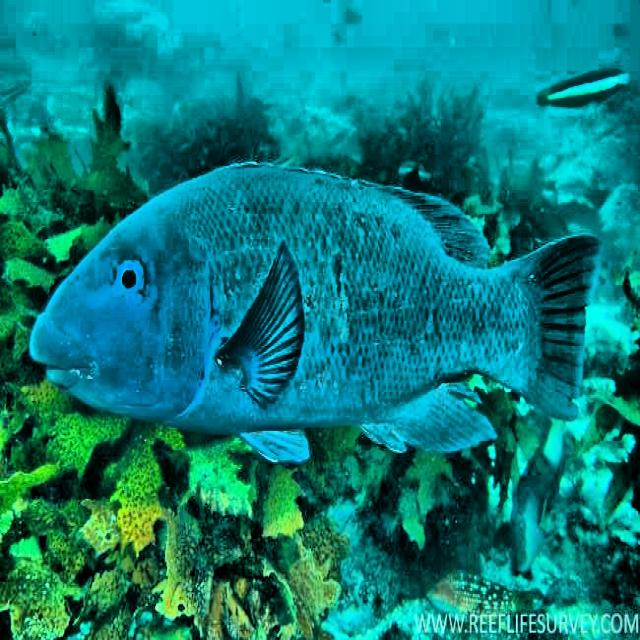fish: (30, 158, 602, 465)
